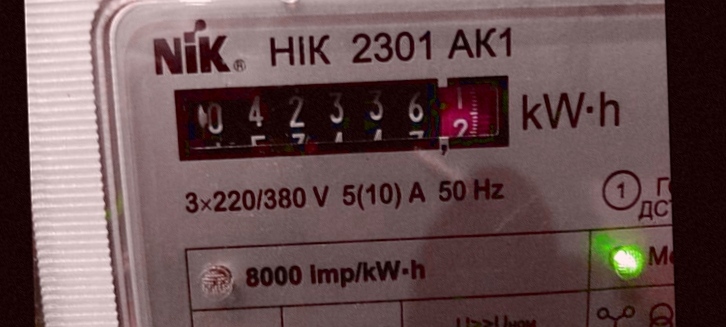0: (204, 100, 225, 135)
1: (451, 83, 465, 112)
2: (285, 93, 306, 130), (449, 117, 469, 138)
3: (363, 86, 385, 123), (325, 88, 346, 126)
4: (244, 91, 265, 129)
6: (402, 88, 426, 124)
screen: (165, 65, 520, 170)
